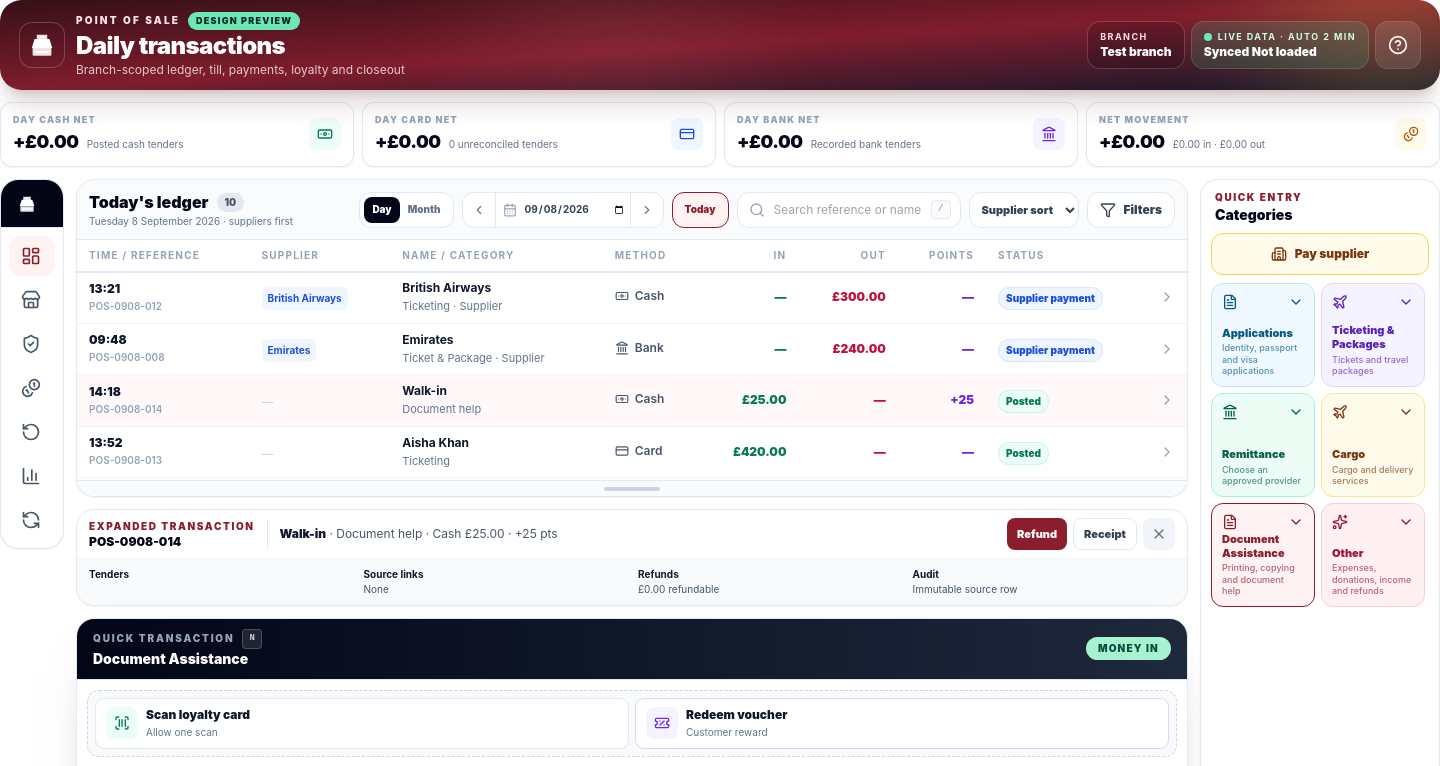
Test: POS preview interactions › only exposes scan capture after arming and disarms after one scan
Expected: the field with placeholder "Scan now or type loyalty code" is not shown
Expected: the button "Redeem voucher Customer reward" is shown, [636,698,1168,748]
Click the button "Scan loyalty card Allow one scan".
click(122, 723)  # box [96,698,628,748]
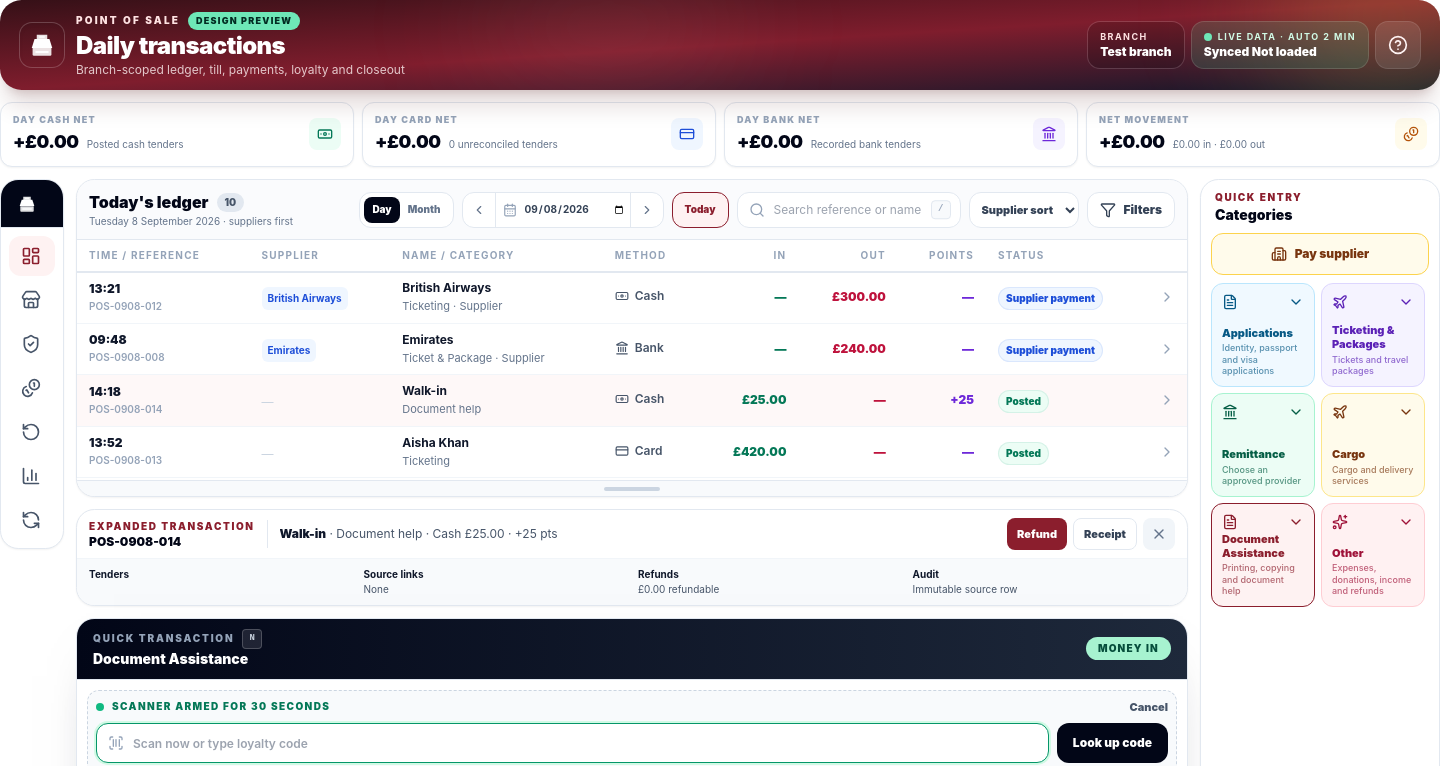
Type "PYM-2345-6789-A" into the field with placeholder "Scan now or type loyalty code".
click(572, 743); type("PYM-2345-6789-A")  # box [96,723,1049,763]
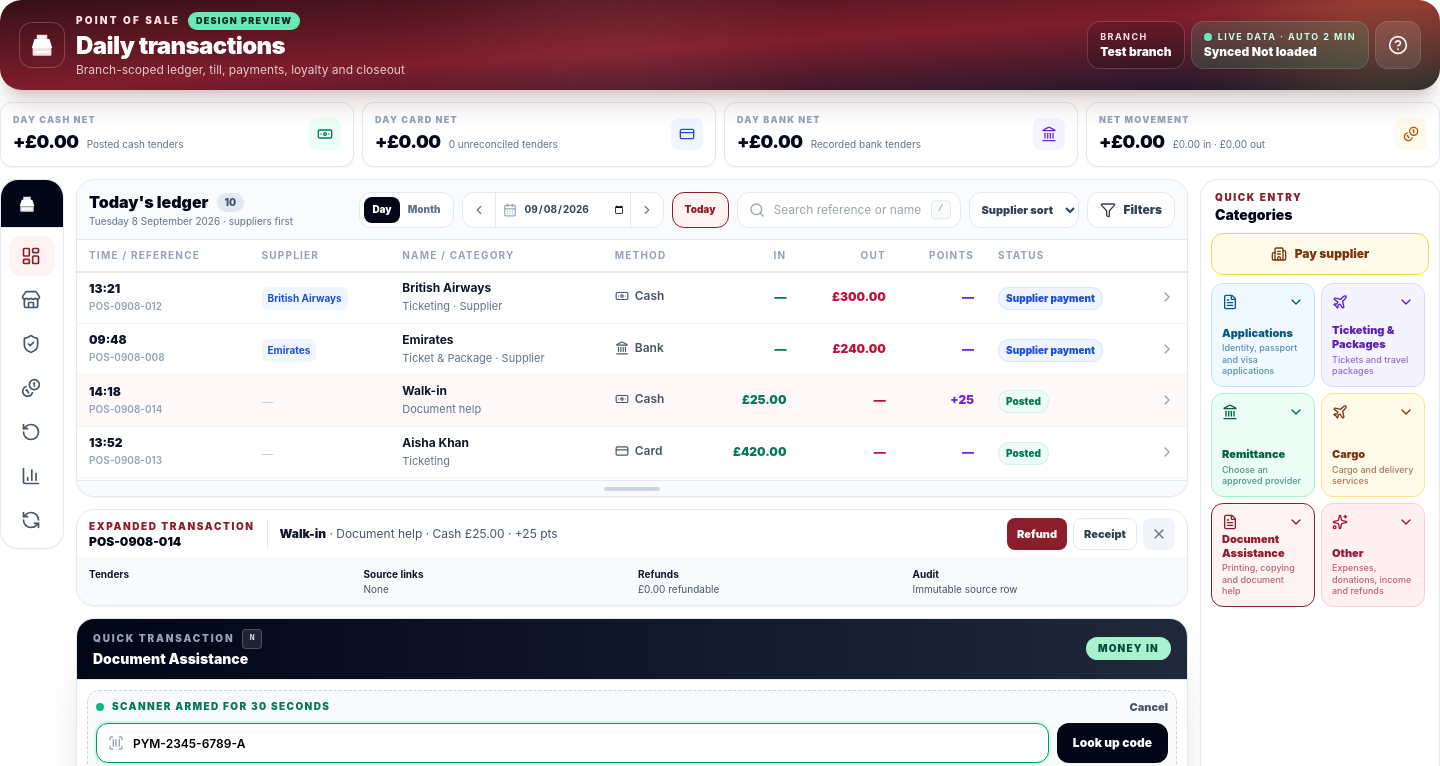
Press Enter in the field with placeholder "Scan now or type loyalty code", box [96,723,1049,763]
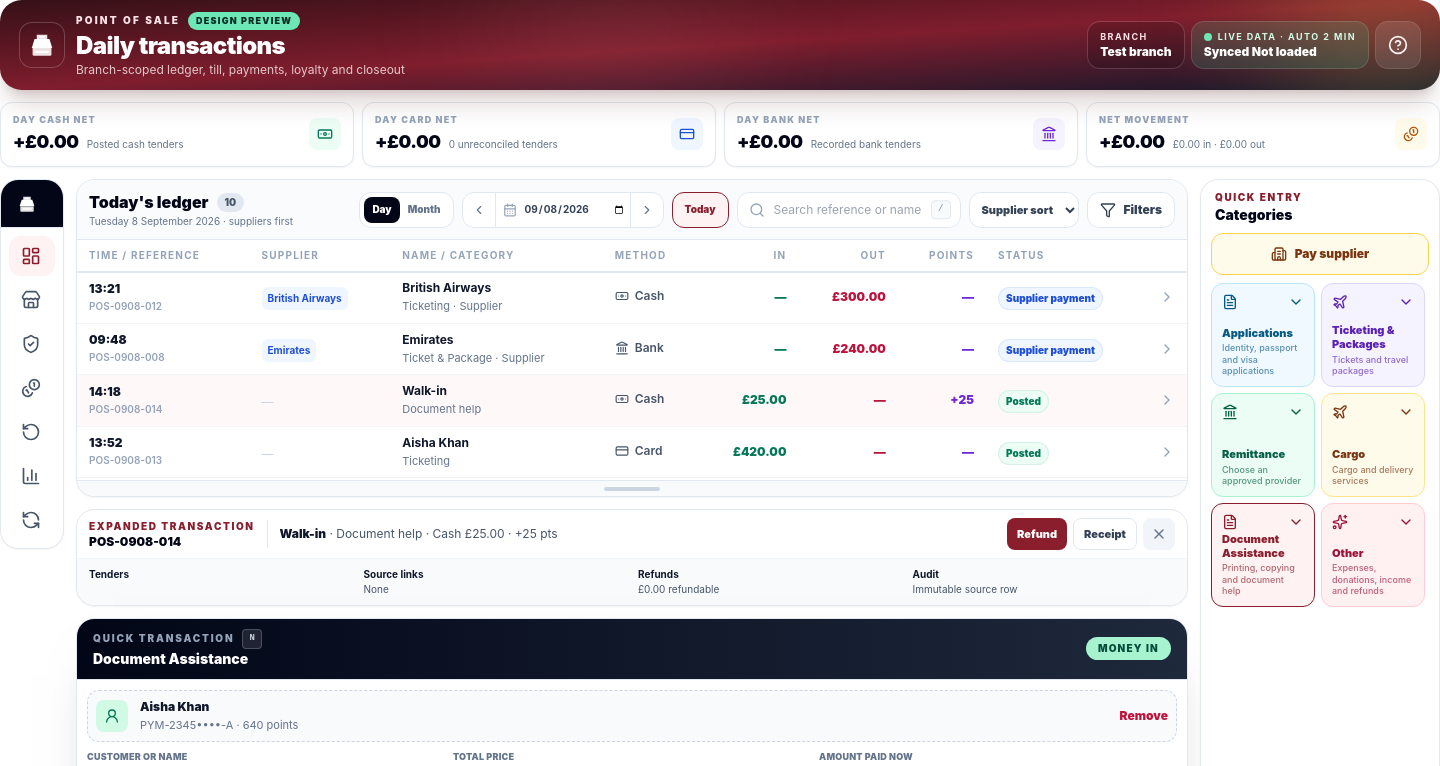
Expected: the field with placeholder "Scan now or type loyalty code" is not shown
Now the text "PYM-2345••••-A · 640 points" is shown, box [140,716,298,733]
